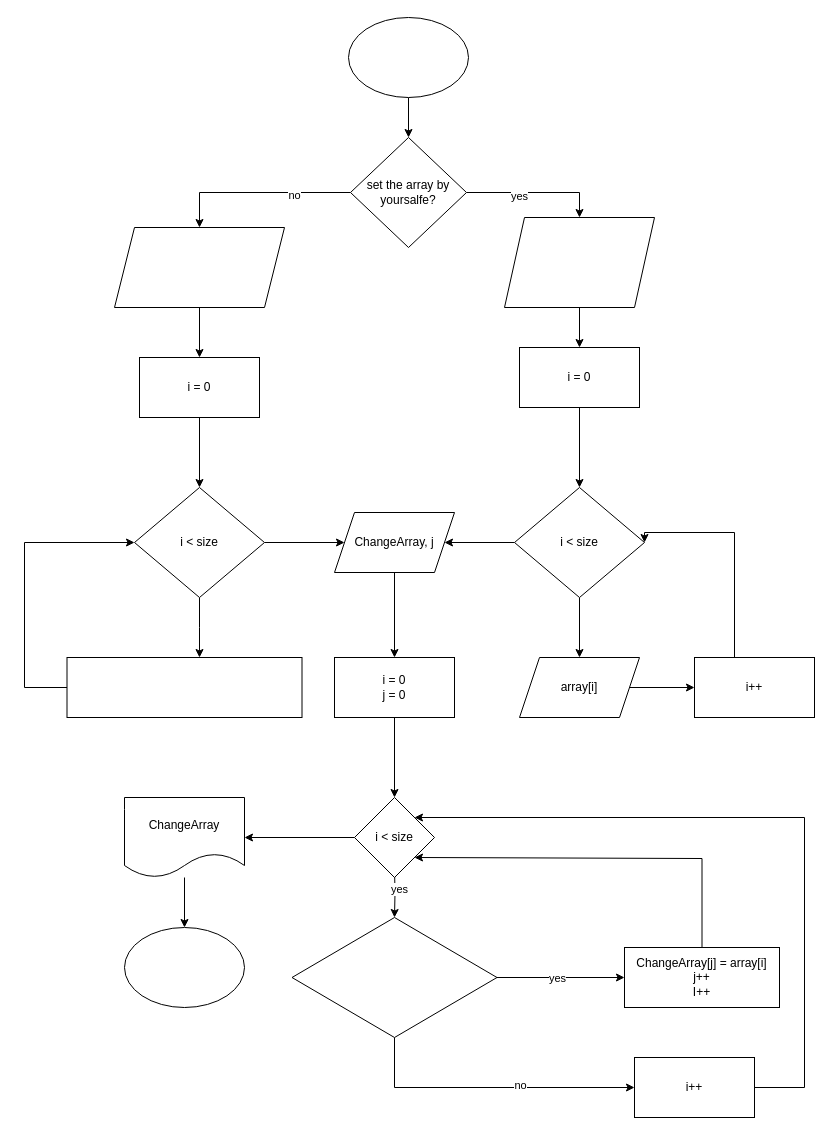
The diagram is 832 pixels wide and 1135 high, and some of its shapes have lost their labels. Here are the shapes that lost their labels. From the top down, the centre of each, then its label:
point 408,57: Start
point 199,267: size, minValu, maxValue, i, array
point 579,262: size, array
point 184,687: array[i] = random(maiValue; maxVlaue); i++
point 184,967: End
point 394,977: array[i].Length <= 3
